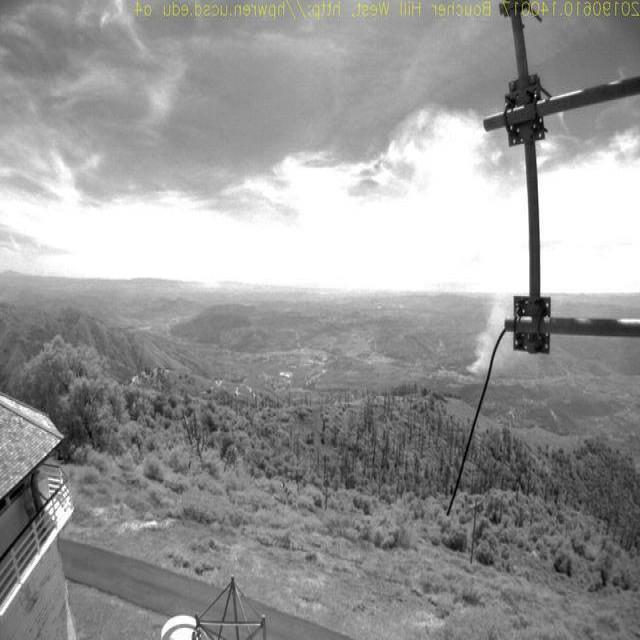Smoke: (465, 273, 518, 380)
